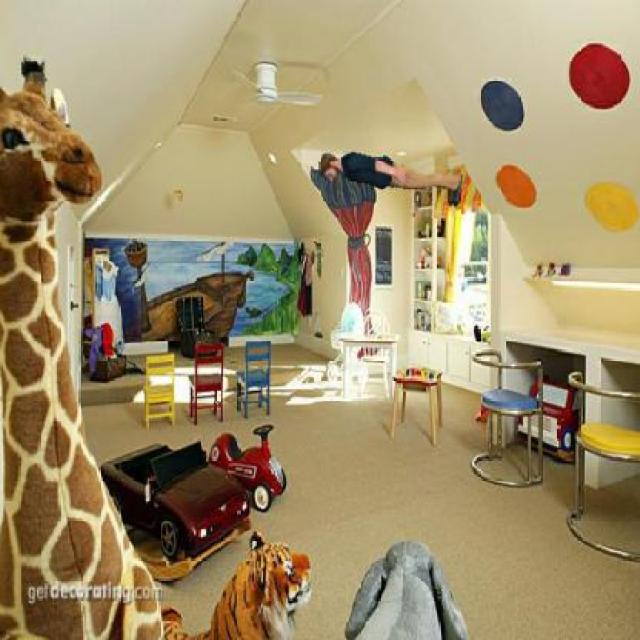Person: (315, 149, 467, 214)
